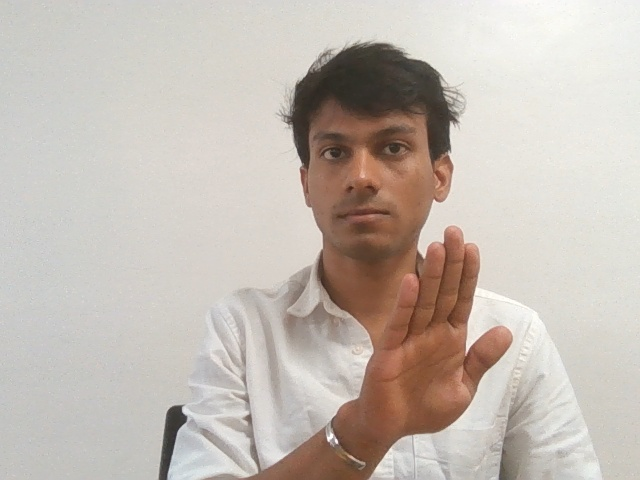Hello: (360, 226, 515, 441)
